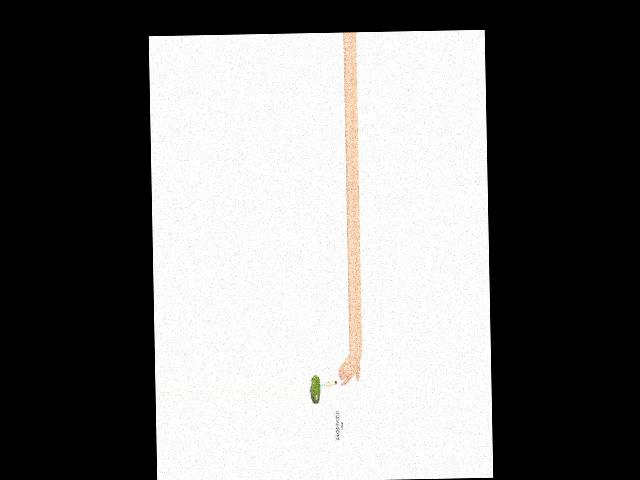cucumber: (310, 374, 320, 403)
